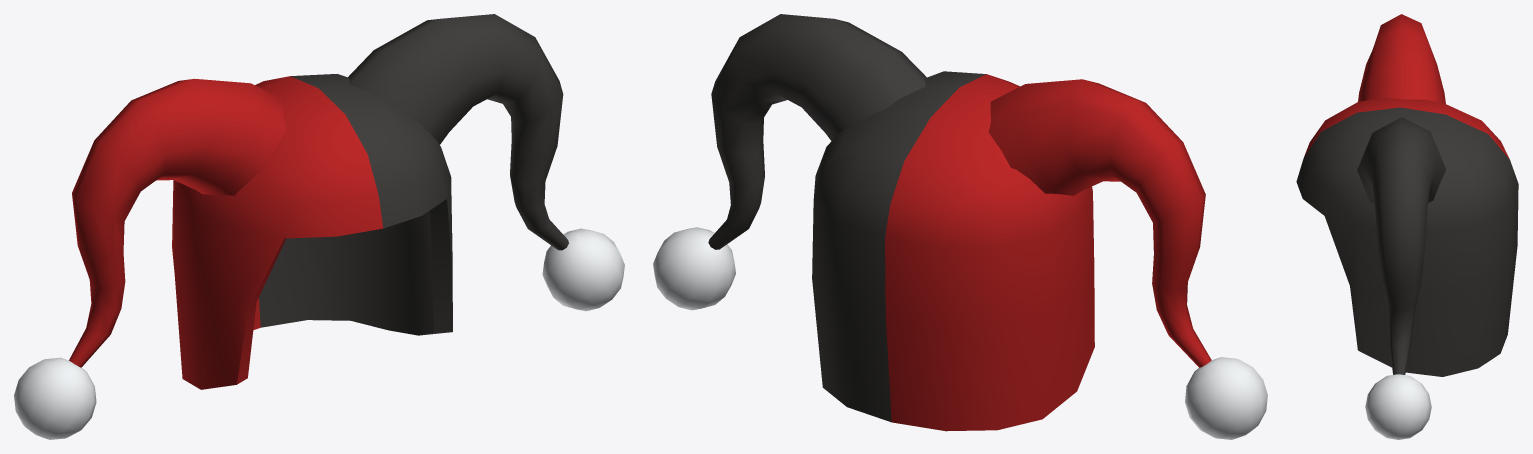
File: harley_hat.fbx
3 views of the same model, side by side, from view 1: azimuth 30°, elevation 25°; view 2: azimuth 150°, elevation 25°; view 3: azimuth 270°, elevation 25° (orthographic). The views are drawn at different scales.
Visible parts, largest first — view 1: hat_2; view 2: hat_2; view 3: hat_2.
Part boxes in pixels (left/top/right/bottom): hat_2: left=14, top=14, right=624, bottom=439; hat_2: left=653, top=14, right=1267, bottom=439; hat_2: left=1296, top=14, right=1518, bottom=439.
Bounding box in the file's own units: 287 × 147 × 115.
